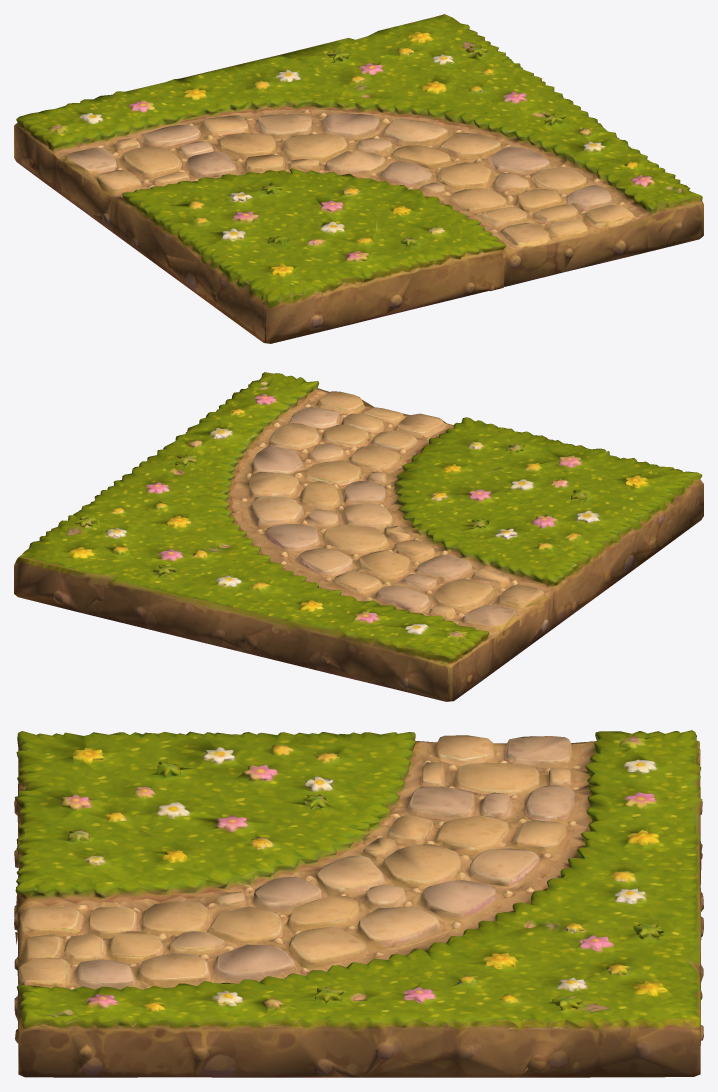
Rendered from path-curve.glb.
3 renders of one model, top to bottom at view 1: azimuth 30°, elevation 25°; view 2: azimuth 150°, elevation 25°; view 3: azimuth 270°, elevation 25°, orthographic. The views are drawn at different scales.
Visible parts, largest first — view 1: Mesh1.0; view 2: Mesh1.0; view 3: Mesh1.0.
Boxes of the visible parts, left/top/right/bottom form: Mesh1.0: left=14, top=14, right=703, bottom=343; Mesh1.0: left=14, top=372, right=703, bottom=701; Mesh1.0: left=14, top=730, right=703, bottom=1077.
Size of the model in its own units: 1.9 by 0.2119 by 1.9.
Materials: 1 (1 with a texture image).
